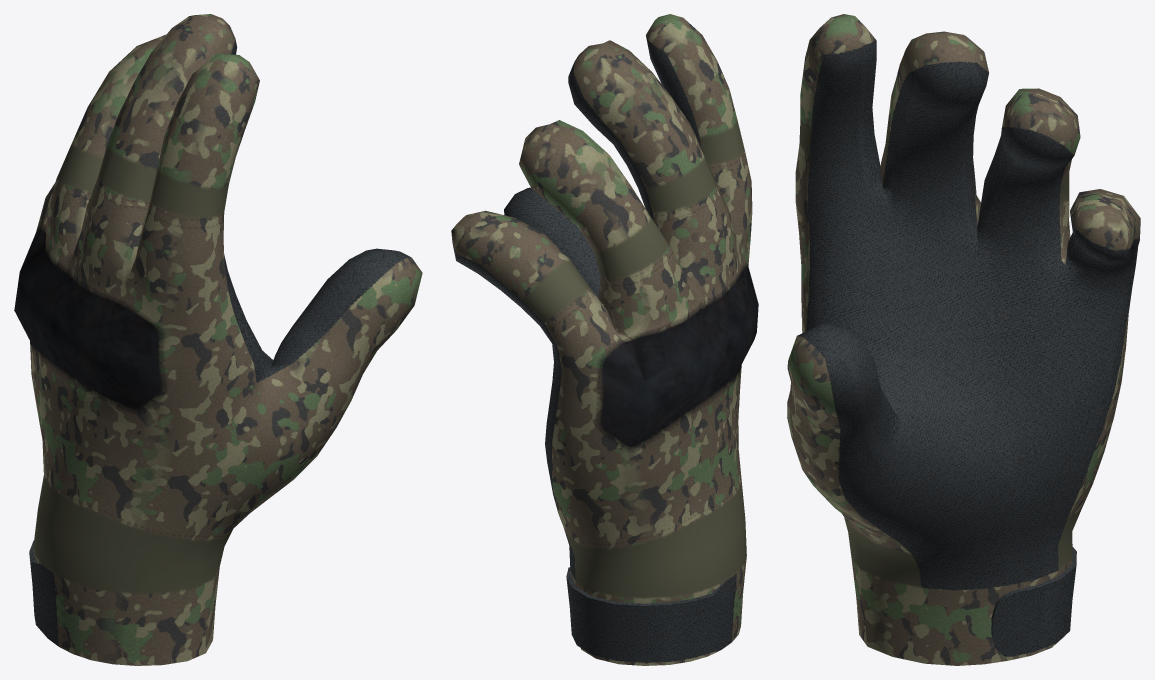
Rendered from FirstFixed.fbx.
3 renders of one model, left to right at view 1: azimuth 30°, elevation 25°; view 2: azimuth 150°, elevation 25°; view 3: azimuth 270°, elevation 25°, orthographic. The views are drawn at different scales.
Visible parts, largest first — view 1: Main_low; view 2: Main_low; view 3: Main_low.
Part boxes in pixels (<box>): Main_low: <box>14,14,422,665</box>; Main_low: <box>451,14,758,665</box>; Main_low: <box>787,14,1140,665</box>.
Bounding box in the file's own units: 0.415 × 0.7836 × 0.3958.
